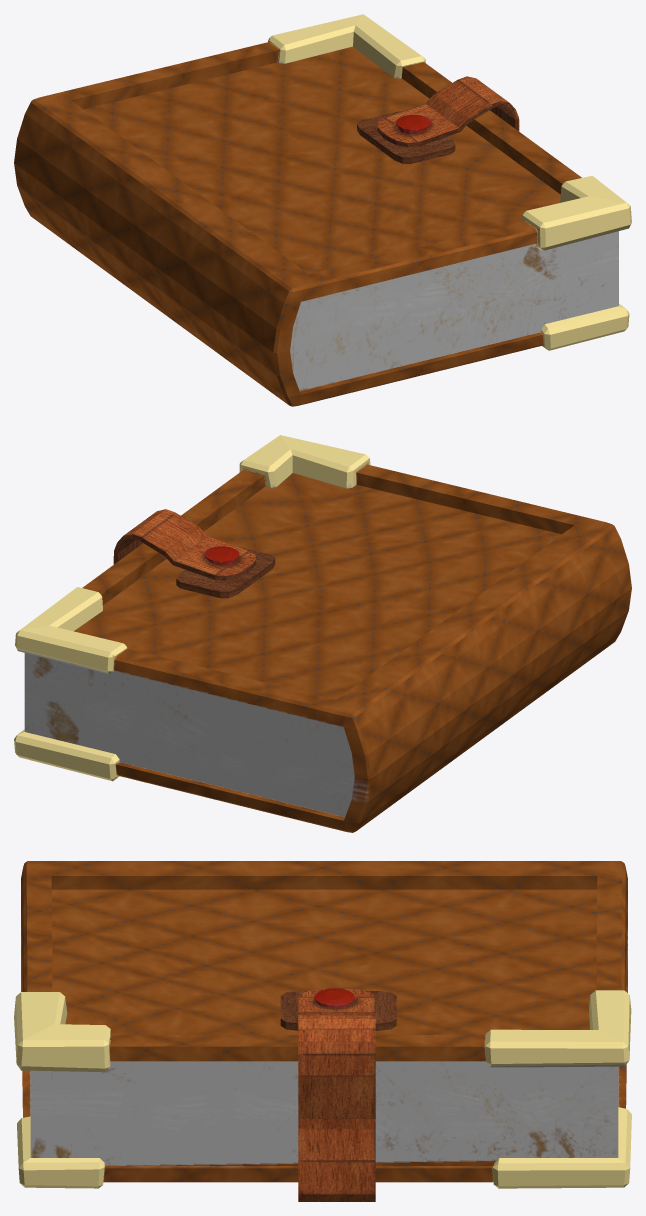
File: book.fbx
3 renders of one model, top to bottom at view 1: azimuth 30°, elevation 25°; view 2: azimuth 150°, elevation 25°; view 3: azimuth 270°, elevation 25°, orthographic. The views are drawn at different scales.
Visible parts, largest first — view 1: book, BezierCurve, Cube.002, Cylinder.002; view 2: book, BezierCurve, Cube.002, Cylinder.002; view 3: book, BezierCurve, Cube.002, Cylinder.002.
Part boxes in pixels (x1,y1,x2,y2): book: (14,14,631,406); BezierCurve: (377,76,519,147); Cube.002: (357,111,455,163); Cylinder.002: (396,114,431,133); book: (14,435,631,832); BezierCurve: (113,509,256,580); Cube.002: (176,546,275,598); Cylinder.002: (204,546,239,565); book: (14,861,631,1188); BezierCurve: (298,988,375,1201); Cube.002: (280,991,396,1030); Cylinder.002: (314,988,354,1007).
Bounding box in the file's own units: 16.44 × 6.78 × 21.02.
Materials: 1 (1 with a texture image).
